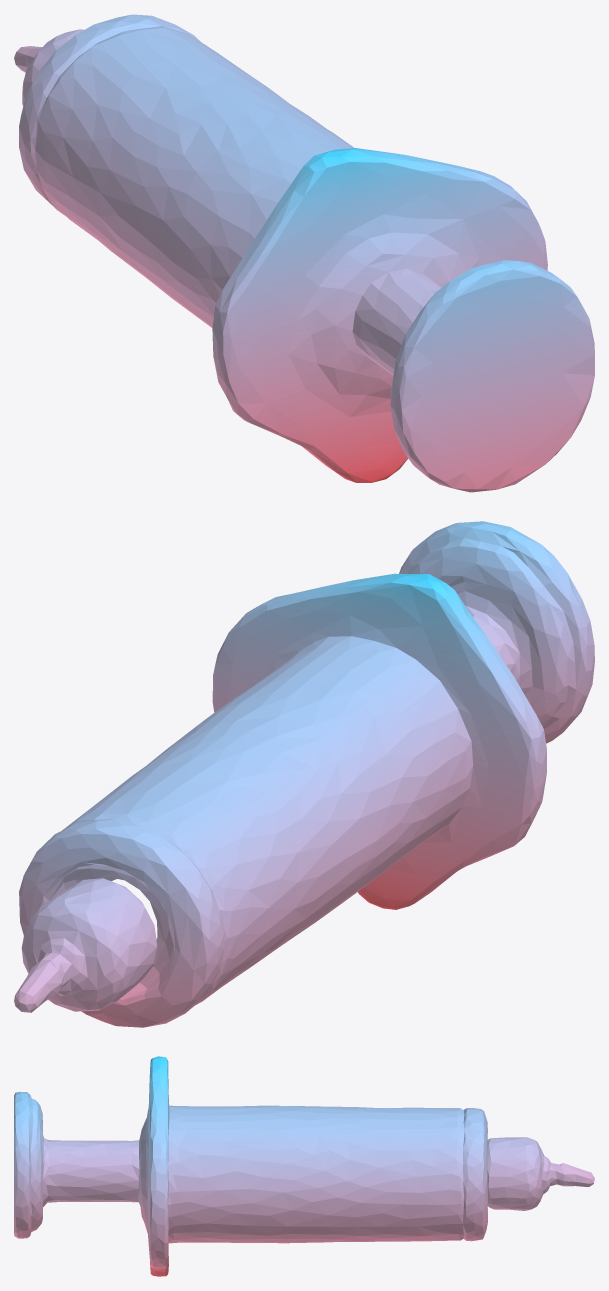
The model's file is 93_cyb_laser_gradient_fish_scales_2783_2026_10_03_2ad88e.glb.
3 views of the same model, one above another, from view 1: azimuth 30°, elevation 25°; view 2: azimuth 150°, elevation 25°; view 3: azimuth 270°, elevation 25° (orthographic). The views are drawn at different scales.
Parts seen in each view (by area): view 1: geometry_0; view 2: geometry_0; view 3: geometry_0.
Boxes of the visible parts, x1=… form: geometry_0: x1=14, y1=14, x2=594, y2=492; geometry_0: x1=14, y1=521, x2=594, y2=1027; geometry_0: x1=14, y1=1056, x2=594, y2=1276.
Size of the model in its own units: 0.3946 by 0.3882 by 1.
